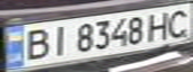3: (90, 17, 115, 52)
4: (109, 16, 133, 47)
8: (72, 20, 96, 53), (127, 12, 151, 45)
B: (18, 25, 54, 61)
C: (163, 6, 193, 38)
H: (145, 9, 175, 42)
I: (45, 22, 72, 56)
